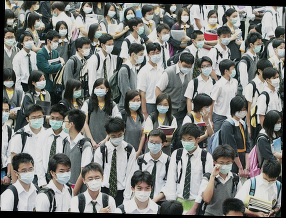with_mask: (133, 184, 153, 203), (17, 166, 36, 185), (54, 167, 72, 186), (215, 159, 234, 176), (47, 114, 64, 132), (180, 135, 197, 152), (86, 174, 102, 192), (146, 139, 163, 155), (109, 131, 125, 147), (29, 113, 44, 130), (127, 98, 143, 112), (156, 101, 171, 115), (234, 106, 248, 120), (33, 77, 47, 90), (22, 37, 35, 51), (61, 117, 71, 135), (201, 62, 213, 77), (261, 177, 277, 188), (93, 85, 106, 98), (268, 75, 281, 88), (149, 50, 161, 64), (220, 32, 232, 46), (71, 86, 83, 99), (4, 35, 16, 48), (272, 120, 283, 134), (134, 51, 145, 65), (104, 41, 115, 55), (160, 29, 171, 43), (194, 36, 205, 50), (199, 105, 211, 117), (180, 63, 193, 74), (252, 40, 263, 53), (58, 25, 68, 38), (93, 27, 103, 40), (180, 11, 190, 24), (2, 107, 10, 123), (228, 66, 237, 80), (3, 78, 15, 88), (81, 45, 91, 57), (50, 39, 60, 51), (208, 14, 218, 26), (81, 4, 93, 14), (136, 22, 145, 35), (5, 16, 15, 27), (229, 13, 239, 24), (144, 11, 155, 21), (277, 45, 285, 58), (107, 8, 117, 18), (125, 12, 136, 21), (32, 1, 40, 12), (169, 4, 177, 14), (34, 18, 41, 29), (50, 8, 58, 17)
